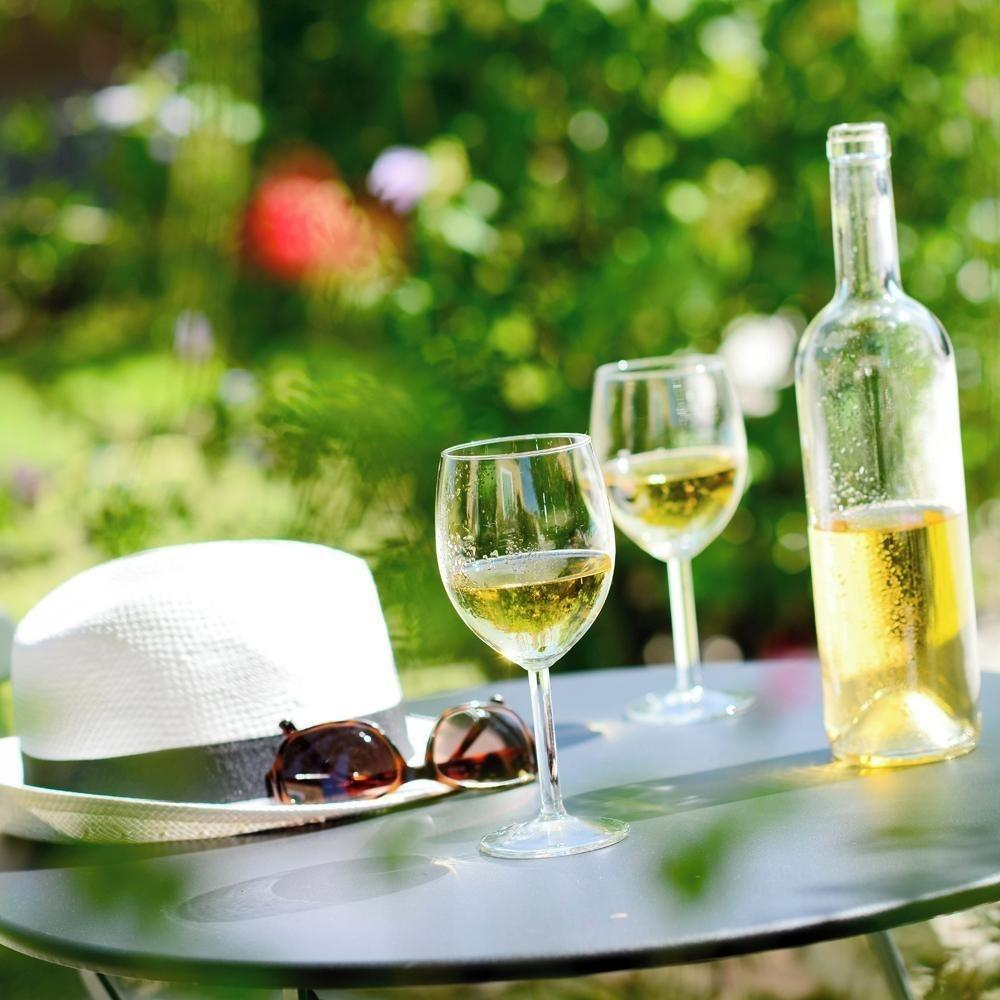bottle-glass: (793, 117, 991, 783)
glass-wine: (425, 427, 645, 871), (587, 343, 761, 725)
